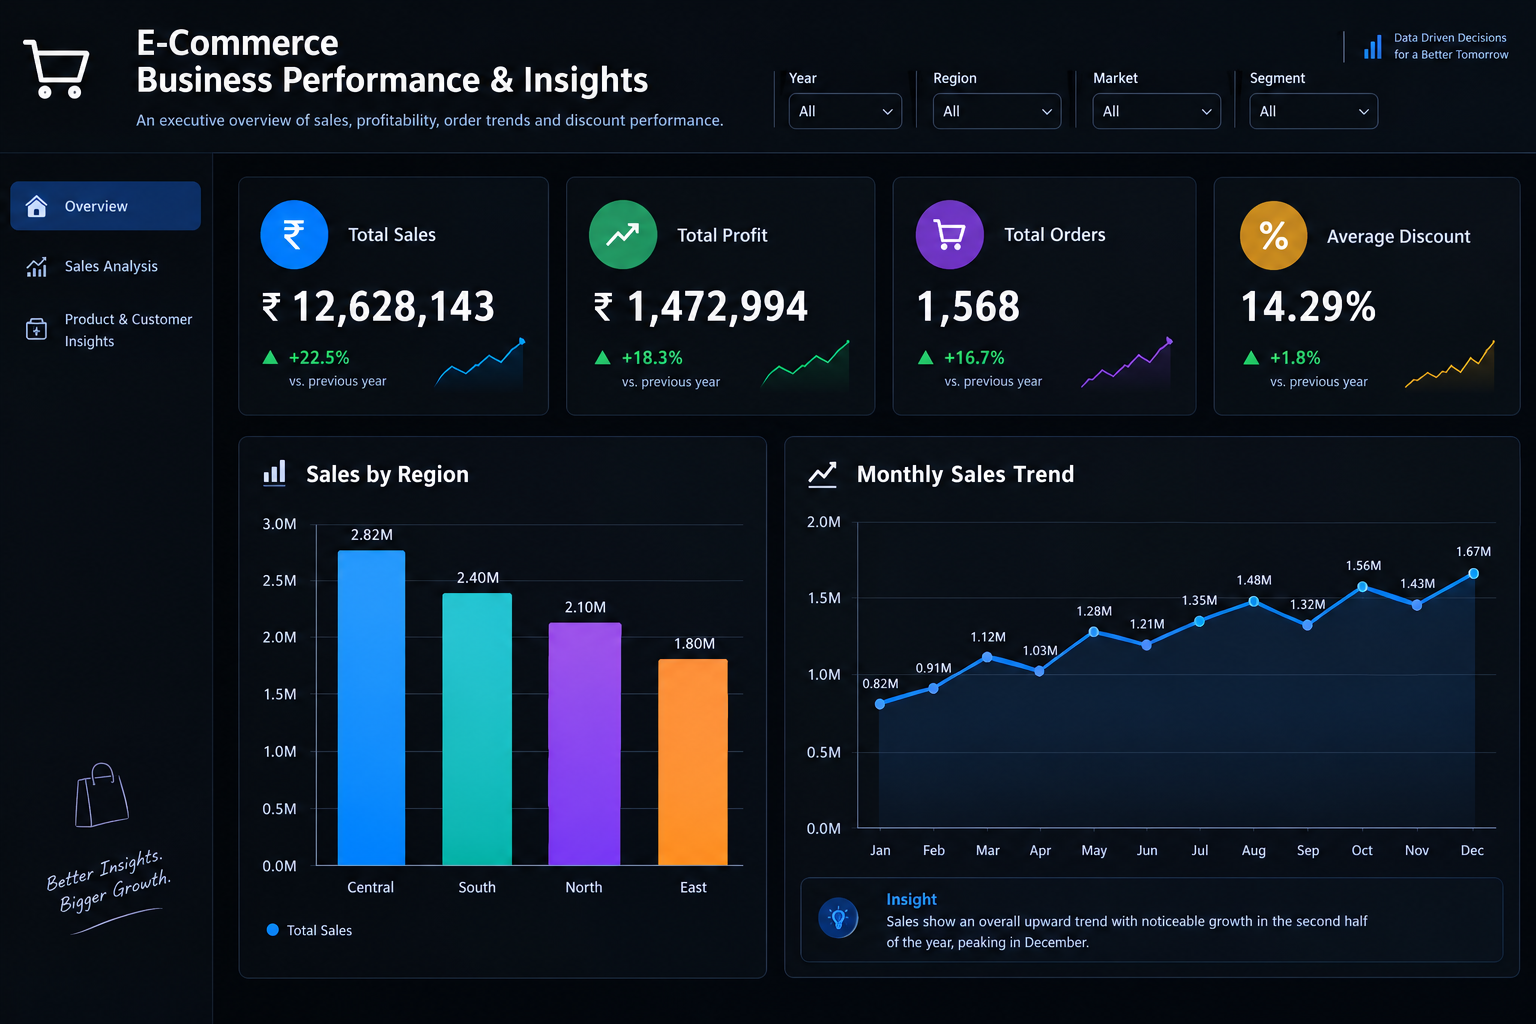

What the dashboard file says about the page in this screenshot:
{"tool":"powerbi","page":{"name":"overview","canvas":[1920,1080],"ordinal":0},"visuals":[{"type":"shape","box":[0,128.3,226.7,951.7],"z":0},{"type":"shape","box":[1546.7,403.3,373.3,330],"z":0,"group":"g16"},{"type":"actionButton","box":[0,525,91.7,68.3],"z":0,"group":"g1"},{"type":"shape","box":[1546.2,731.2,373.3,330],"z":0,"group":"g17"},{"type":"shape","box":[0,0,1920,143.3],"z":1000},{"type":"gauge","fields":{"TargetValue":["Data Cleaning.Sales Target"],"Y":["Data Cleaning.Total Sales"]},"box":[1570,483.3,326.7,233.3],"z":1000,"group":"g16"},{"type":"textbox","box":[46.7,537.7,161.7,55.6],"z":1000,"group":"g1"},{"type":"gauge","fields":{"TargetValue":["Data Cleaning.Profit Target"],"Y":["Data Cleaning.Total Profit"]},"box":[1569.5,811.2,326.7,233.3],"z":1000,"group":"g17"},{"type":"actionButton","box":[0,0,208.3,115],"z":2000},{"type":"textbox","box":[1558.8,425,361.2,70],"z":2000,"group":"g16"},{"type":"textbox","box":[1558.3,752.9,361.2,70],"z":2000,"group":"g17"},{"type":"textbox","box":[226.7,0,486.7,71.7],"z":3000},{"type":"textbox","box":[713.3,0,833.3,71.7],"z":4000},{"type":"actionButton","box":[1540,25,100,66.7],"z":5000},{"type":"textbox","box":[1638.3,25,281.7,46.7],"z":6000},{"type":"textbox","box":[226.7,71.7,1053.3,43.3],"z":7000},{"type":"group","id":"g1","title":"Group 1","box":[0,525,208.3,68.3],"z":8000},{"type":"group","id":"g2","title":"Group 3","box":[0,579.9,209,98.4],"z":9000},{"type":"group","id":"g3","title":"Group 3","box":[0,700.6,209,98.4],"z":10000},{"type":"shape","box":[656.3,142.3,385.1,235.3],"z":11000,"group":"g7"},{"type":"shape","box":[227.3,143.6,385.1,235.3],"z":11000,"group":"g6"},{"type":"shape","box":[1084.7,145.6,385.1,235.3],"z":11000,"group":"g8"},{"type":"shape","box":[1512.9,146.9,385.1,235.3],"z":11000,"group":"g9"},{"type":"group","id":"g4","title":"Group 3","box":[0,821.2,209,98.4],"z":11000},{"type":"actionButton","box":[674.1,153.9,100.3,74.9],"z":12000,"group":"g7"},{"type":"actionButton","box":[252.6,163.8,100.3,74.9],"z":12000,"group":"g6"},{"type":"actionButton","box":[1538.9,165.3,100.3,74.9],"z":12000,"group":"g9"},{"type":"actionButton","box":[1108,165.9,100.3,74.9],"z":12000,"group":"g8"},{"type":"slicer","fields":{"Values":["Data Cleaning.year"]},"box":[0,631.9,209,46.4],"z":12000,"group":"g2"},{"type":"slicer","fields":{"Values":["Date.Month"]},"box":[0,752.6,209,46.4],"z":12000,"group":"g3"},{"type":"slicer","fields":{"Values":["Data Cleaning.region"]},"box":[0,873.2,209,46.4],"z":12000,"group":"g4"},{"type":"group","id":"g5","title":"Group 3","box":[0,941.8,209,98.4],"z":12000},{"type":"slicer","fields":{"Values":["Data Cleaning.market"]},"box":[0,993.8,209,46.4],"z":12000,"group":"g5"},{"type":"group","id":"g6","title":"Group 4","box":[227.1,143.6,385.2,235.3],"z":13000},{"type":"textbox","box":[759.2,178.4,140.4,50.8],"z":13000,"group":"g7"},{"type":"textbox","box":[1177.6,179.6,180.2,53],"z":13000,"group":"g8"},{"type":"textbox","box":[330.2,179.7,140.4,50.8],"z":13000,"group":"g6"},{"type":"textbox","box":[1616.1,184.9,193.8,48.5],"z":13000,"group":"g9"},{"type":"group","id":"g7","title":"Group 4","box":[656.1,142.3,385.2,235.3],"z":14000},{"type":"cardVisual","fields":{"Data":["Data Cleaning.Total Profit"]},"box":[733.3,229.4,230,72.2],"z":14000,"group":"g7"},{"type":"cardVisual","fields":{"Data":["Data Cleaning.Total Sales"]},"box":[304.3,230.7,230,72.2],"z":14000,"group":"g6"},{"type":"cardVisual","fields":{"Data":["Data Cleaning.Total Orders"]},"box":[1161.7,232.7,230,72.2],"z":14000,"group":"g8"},{"type":"cardVisual","fields":{"Data":["Data Cleaning.Avg Discount"]},"box":[1589.9,234,230,72.2],"z":14000,"group":"g9"},{"type":"group","id":"g8","title":"Group 4","box":[1084.5,145.6,385.2,235.3],"z":15000},{"type":"lineChart","fields":{"Category":["Data Cleaning.year"],"Y":["Data Cleaning.Total Profit"]},"box":[878.7,249.1,162,127.2],"z":15000,"group":"g7"},{"type":"lineChart","fields":{"Category":["Data Cleaning.year"],"Y":["Data Cleaning.Total Sales"]},"box":[449.7,250.4,162,127.2],"z":15000,"group":"g6"},{"type":"lineChart","fields":{"Category":["Data Cleaning.year"],"Y":["Data Cleaning.Total Sales"]},"box":[1307.1,252.4,162,127.2],"z":15000,"group":"g8"},{"type":"lineChart","fields":{"Category":["Data Cleaning.year"],"Y":["Data Cleaning.Total Sales"]},"box":[1735.3,253.7,162,127.2],"z":15000,"group":"g9"},{"type":"group","id":"g9","title":"Group 4","box":[1512.7,146.9,385.2,235.3],"z":16000},{"type":"cardVisual","fields":{"Data":["Data Cleaning.Profit Growth %"]},"box":[656.1,280.9,304.4,63.6],"z":16000,"group":"g7"},{"type":"cardVisual","fields":{"Data":["Data Cleaning.Sales Growth %"]},"box":[227.1,282.2,304.4,63.6],"z":16000,"group":"g6"},{"type":"cardVisual","fields":{"Data":["Data Cleaning.Orders Growth %"]},"box":[1084.5,284.2,304.4,63.6],"z":16000,"group":"g8"},{"type":"cardVisual","fields":{"Data":["Data Cleaning.Discount Growth %"]},"box":[1512.7,285.5,304.4,63.6],"z":16000,"group":"g9"},{"type":"cardVisual","fields":{"Data":["Date.Date Period"]},"box":[1620,48.3,285,66.7],"z":17000},{"type":"actionButton","box":[23.8,180,161.7,61.7],"z":18000},{"type":"actionButton","box":[56.2,579.9,95.7,60.7],"z":18000,"group":"g10"},{"type":"actionButton","box":[56.2,700.6,95.7,60.7],"z":18000,"group":"g11"},{"type":"actionButton","box":[56.2,821.2,95.7,60.7],"z":18000,"group":"g12"},{"type":"actionButton","box":[56.2,941.8,95.7,60.7],"z":18000,"group":"g13"},{"type":"shape","box":[226.7,403.3,656.7,658.3],"z":19000,"group":"g14"},{"type":"shape","box":[878.3,403.3,680.2,658.3],"z":19000,"group":"g15"},{"type":"textbox","box":[227,930,158,150],"z":19000},{"type":"textbox","box":[56.2,596.7,95.7,43.9],"z":19500,"group":"g10"},{"type":"textbox","box":[56.2,717.4,95.7,43.9],"z":19500,"group":"g11"},{"type":"textbox","box":[56.2,838,95.7,43.9],"z":19500,"group":"g12"},{"type":"textbox","box":[56.2,958.6,95.7,43.9],"z":19500,"group":"g13"},{"type":"group","id":"g10","title":"Group 2","box":[56.2,579.9,95.7,62.4],"z":19501,"group":"g2"},{"type":"group","id":"g11","title":"Group 2","box":[56.2,700.6,95.7,62.4],"z":19501,"group":"g3"},{"type":"group","id":"g12","title":"Group 2","box":[56.2,821.2,95.7,62.4],"z":19501,"group":"g4"},{"type":"group","id":"g13","title":"Group 2","box":[56.2,941.8,95.7,62.4],"z":19501,"group":"g5"},{"type":"textbox","box":[40,191.5,128.5,48.5],"z":20000},{"type":"actionButton","box":[24,270,161.7,61.7],"z":21000},{"type":"textbox","box":[899.9,425.8,638.3,81.7],"z":21000,"group":"g15"},{"type":"barChart","fields":{"Category":["Data Cleaning.region"],"Y":["Data Cleaning.Total Sales"]},"box":[243.9,469,621.8,571],"z":21000,"group":"g14"},{"type":"textbox","box":[40,281,128,36],"z":22000},{"type":"textbox","box":[244.1,425,621.6,58.3],"z":22000,"group":"g14"},{"type":"lineChart","fields":{"Category":["Date.Month"],"Y":["Data Cleaning.Total Sales"]},"box":[899.9,484.1,638.3,556.7],"z":22000,"group":"g15"},{"type":"actionButton","box":[23,365,161.7,61.7],"z":23000},{"type":"textbox","box":[227,930,158,150],"z":24000},{"type":"textbox","box":[40,376,128,40],"z":25000},{"type":"group","id":"g14","title":"Group 5","box":[226.7,403.3,656.7,658.3],"z":26000},{"type":"group","id":"g15","title":"Group 6","box":[878.3,403.3,680,656.7],"z":27000},{"type":"group","id":"g16","title":"Group 7","box":[1546.7,403.3,373.3,330],"z":28000},{"type":"group","id":"g17","title":"Group 7","box":[1546.2,731.2,373.8,330],"z":29000}]}

Visuals, with their boxes on the page's 1920x1080 design canvas (x1, y1, x2, y2). These are canvas units, not pixel positions in the 1536x1024 screenshot, which may show the page scaled, cropped or inside an application window:
shape: pyautogui.locateOnScreen(0, 128, 227, 1080)
shape: pyautogui.locateOnScreen(1547, 403, 1920, 733)
actionButton: pyautogui.locateOnScreen(0, 525, 92, 593)
shape: pyautogui.locateOnScreen(1546, 731, 1920, 1061)
shape: pyautogui.locateOnScreen(0, 0, 1920, 143)
gauge - Data Cleaning.Sales Target x Data Cleaning.Total Sales: pyautogui.locateOnScreen(1570, 483, 1897, 717)
textbox: pyautogui.locateOnScreen(47, 538, 208, 593)
gauge - Data Cleaning.Profit Target x Data Cleaning.Total Profit: pyautogui.locateOnScreen(1570, 811, 1896, 1044)
actionButton: pyautogui.locateOnScreen(0, 0, 208, 115)
textbox: pyautogui.locateOnScreen(1559, 425, 1920, 495)
textbox: pyautogui.locateOnScreen(1558, 753, 1920, 823)
textbox: pyautogui.locateOnScreen(227, 0, 713, 72)
textbox: pyautogui.locateOnScreen(713, 0, 1547, 72)
actionButton: pyautogui.locateOnScreen(1540, 25, 1640, 92)
textbox: pyautogui.locateOnScreen(1638, 25, 1920, 72)
textbox: pyautogui.locateOnScreen(227, 72, 1280, 115)
"Group 1" group: pyautogui.locateOnScreen(0, 525, 208, 593)
"Group 3" group: pyautogui.locateOnScreen(0, 580, 209, 678)
"Group 3" group: pyautogui.locateOnScreen(0, 701, 209, 799)
shape: pyautogui.locateOnScreen(656, 142, 1041, 378)
shape: pyautogui.locateOnScreen(227, 144, 612, 379)
shape: pyautogui.locateOnScreen(1085, 146, 1470, 381)
shape: pyautogui.locateOnScreen(1513, 147, 1898, 382)
"Group 3" group: pyautogui.locateOnScreen(0, 821, 209, 920)
actionButton: pyautogui.locateOnScreen(674, 154, 774, 229)
actionButton: pyautogui.locateOnScreen(253, 164, 353, 239)
actionButton: pyautogui.locateOnScreen(1539, 165, 1639, 240)
actionButton: pyautogui.locateOnScreen(1108, 166, 1208, 241)
slicer - Data Cleaning.year: pyautogui.locateOnScreen(0, 632, 209, 678)
slicer - Date.Month: pyautogui.locateOnScreen(0, 753, 209, 799)
slicer - Data Cleaning.region: pyautogui.locateOnScreen(0, 873, 209, 920)
"Group 3" group: pyautogui.locateOnScreen(0, 942, 209, 1040)
slicer - Data Cleaning.market: pyautogui.locateOnScreen(0, 994, 209, 1040)
"Group 4" group: pyautogui.locateOnScreen(227, 144, 612, 379)
textbox: pyautogui.locateOnScreen(759, 178, 900, 229)
textbox: pyautogui.locateOnScreen(1178, 180, 1358, 233)
textbox: pyautogui.locateOnScreen(330, 180, 471, 230)
textbox: pyautogui.locateOnScreen(1616, 185, 1810, 233)
"Group 4" group: pyautogui.locateOnScreen(656, 142, 1041, 378)
cardVisual - Data Cleaning.Total Profit: pyautogui.locateOnScreen(733, 229, 963, 302)
cardVisual - Data Cleaning.Total Sales: pyautogui.locateOnScreen(304, 231, 534, 303)
cardVisual - Data Cleaning.Total Orders: pyautogui.locateOnScreen(1162, 233, 1392, 305)
cardVisual - Data Cleaning.Avg Discount: pyautogui.locateOnScreen(1590, 234, 1820, 306)
"Group 4" group: pyautogui.locateOnScreen(1084, 146, 1470, 381)
lineChart - Data Cleaning.year x Data Cleaning.Total Profit: pyautogui.locateOnScreen(879, 249, 1041, 376)
lineChart - Data Cleaning.year x Data Cleaning.Total Sales: pyautogui.locateOnScreen(450, 250, 612, 378)
lineChart - Data Cleaning.year x Data Cleaning.Total Sales: pyautogui.locateOnScreen(1307, 252, 1469, 380)
lineChart - Data Cleaning.year x Data Cleaning.Total Sales: pyautogui.locateOnScreen(1735, 254, 1897, 381)
"Group 4" group: pyautogui.locateOnScreen(1513, 147, 1898, 382)
cardVisual - Data Cleaning.Profit Growth %: pyautogui.locateOnScreen(656, 281, 960, 344)
cardVisual - Data Cleaning.Sales Growth %: pyautogui.locateOnScreen(227, 282, 532, 346)
cardVisual - Data Cleaning.Orders Growth %: pyautogui.locateOnScreen(1084, 284, 1389, 348)
cardVisual - Data Cleaning.Discount Growth %: pyautogui.locateOnScreen(1513, 286, 1817, 349)
cardVisual - Date.Date Period: pyautogui.locateOnScreen(1620, 48, 1905, 115)
actionButton: pyautogui.locateOnScreen(24, 180, 186, 242)
actionButton: pyautogui.locateOnScreen(56, 580, 152, 641)
actionButton: pyautogui.locateOnScreen(56, 701, 152, 761)
actionButton: pyautogui.locateOnScreen(56, 821, 152, 882)
actionButton: pyautogui.locateOnScreen(56, 942, 152, 1002)
shape: pyautogui.locateOnScreen(227, 403, 883, 1062)
shape: pyautogui.locateOnScreen(878, 403, 1558, 1062)
textbox: pyautogui.locateOnScreen(227, 930, 385, 1080)
textbox: pyautogui.locateOnScreen(56, 597, 152, 641)
textbox: pyautogui.locateOnScreen(56, 717, 152, 761)
textbox: pyautogui.locateOnScreen(56, 838, 152, 882)
textbox: pyautogui.locateOnScreen(56, 959, 152, 1002)
"Group 2" group: pyautogui.locateOnScreen(56, 580, 152, 642)
"Group 2" group: pyautogui.locateOnScreen(56, 701, 152, 763)
"Group 2" group: pyautogui.locateOnScreen(56, 821, 152, 884)
"Group 2" group: pyautogui.locateOnScreen(56, 942, 152, 1004)
textbox: pyautogui.locateOnScreen(40, 192, 168, 240)
actionButton: pyautogui.locateOnScreen(24, 270, 186, 332)
textbox: pyautogui.locateOnScreen(900, 426, 1538, 508)
barChart - Data Cleaning.region x Data Cleaning.Total Sales: pyautogui.locateOnScreen(244, 469, 866, 1040)
textbox: pyautogui.locateOnScreen(40, 281, 168, 317)
textbox: pyautogui.locateOnScreen(244, 425, 866, 483)
lineChart - Date.Month x Data Cleaning.Total Sales: pyautogui.locateOnScreen(900, 484, 1538, 1041)
actionButton: pyautogui.locateOnScreen(23, 365, 185, 427)
textbox: pyautogui.locateOnScreen(227, 930, 385, 1080)
textbox: pyautogui.locateOnScreen(40, 376, 168, 416)
"Group 5" group: pyautogui.locateOnScreen(227, 403, 883, 1062)
"Group 6" group: pyautogui.locateOnScreen(878, 403, 1558, 1060)
"Group 7" group: pyautogui.locateOnScreen(1547, 403, 1920, 733)
"Group 7" group: pyautogui.locateOnScreen(1546, 731, 1920, 1061)
